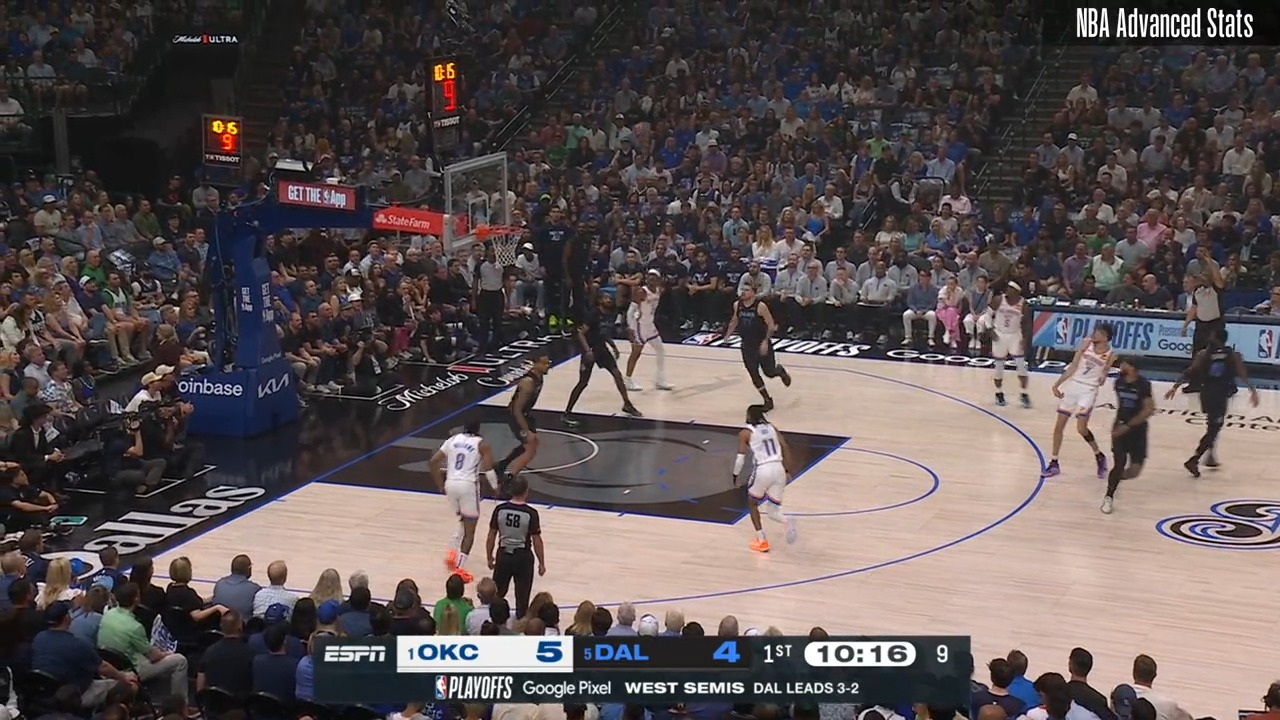basketball: (633, 120, 654, 147)
